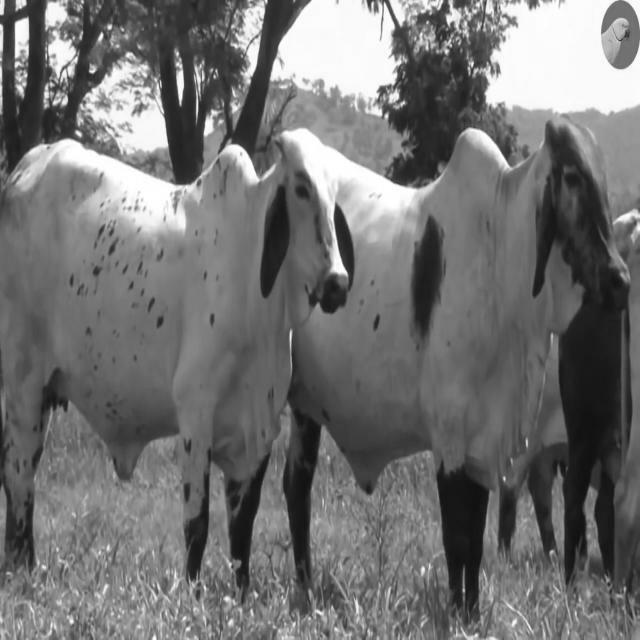cow: (286, 118, 629, 609), (0, 130, 349, 585)
